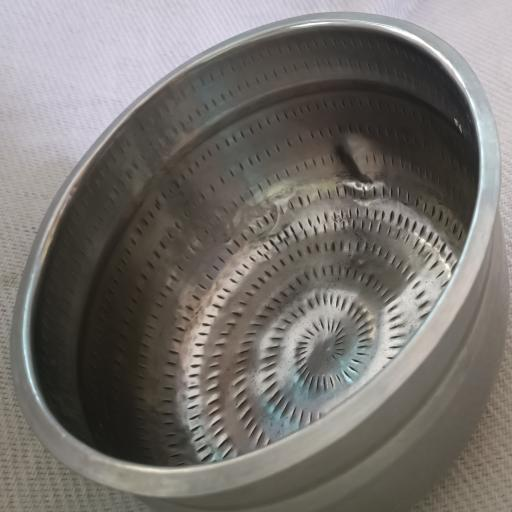vessel: (11, 13, 508, 512)
